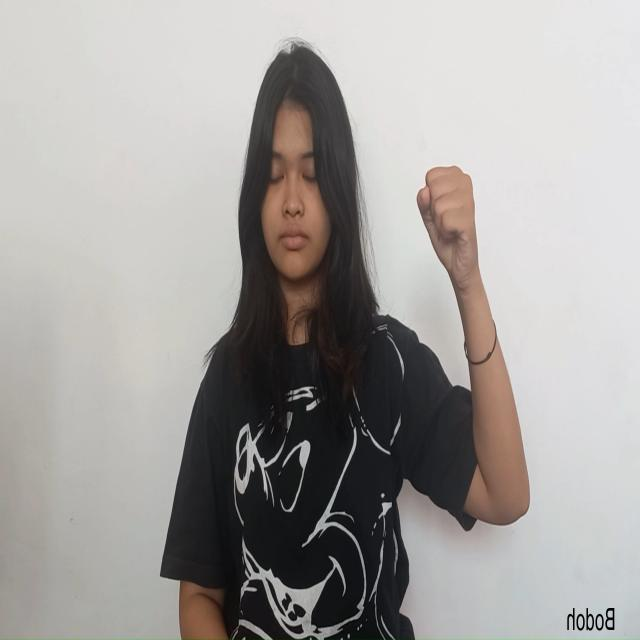Bodoh -BISINDO-: (414, 160, 482, 301)
